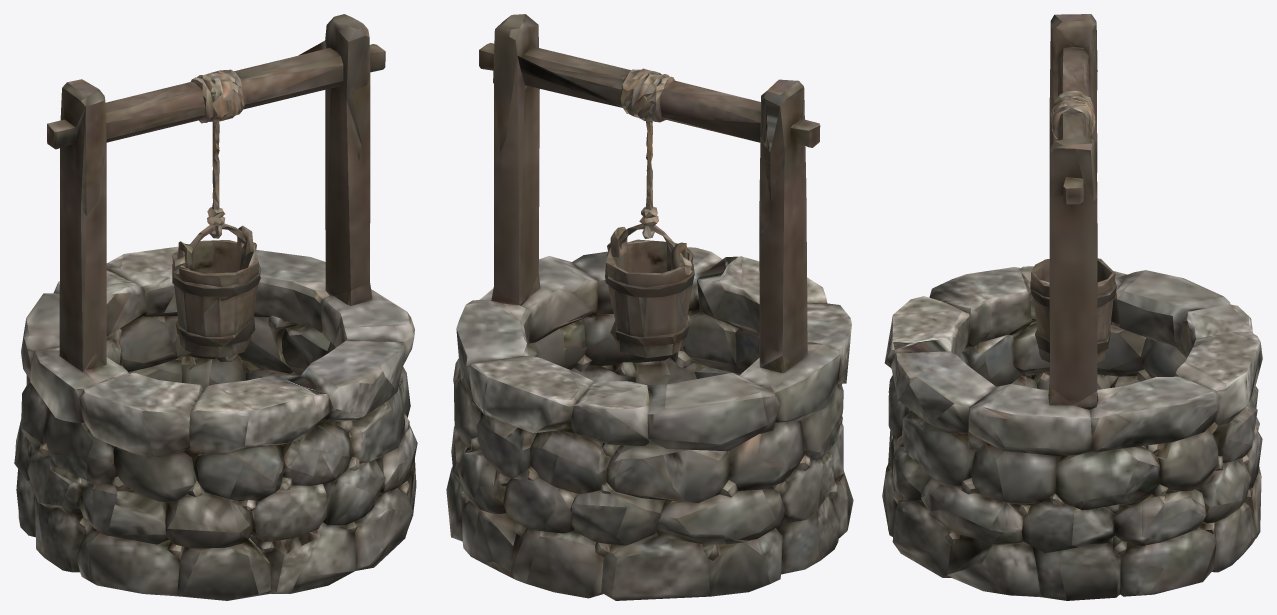
The model's file is well.glb.
3 views of the same model, side by side, from view 1: azimuth 30°, elevation 25°; view 2: azimuth 150°, elevation 25°; view 3: azimuth 270°, elevation 25° (orthographic). The views are drawn at different scales.
Size of the model in its own units: 1.46 by 1.89 by 1.47.
Materials: 1 (1 with a texture image).
